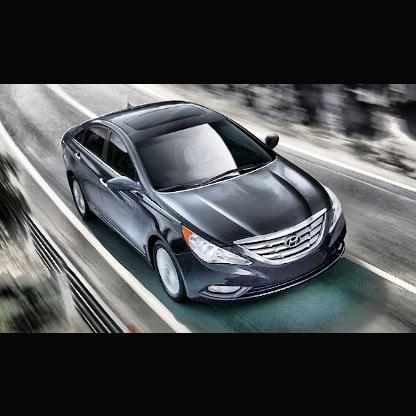Hyundai Sonata Sedan 2012: (60, 98, 350, 303)
